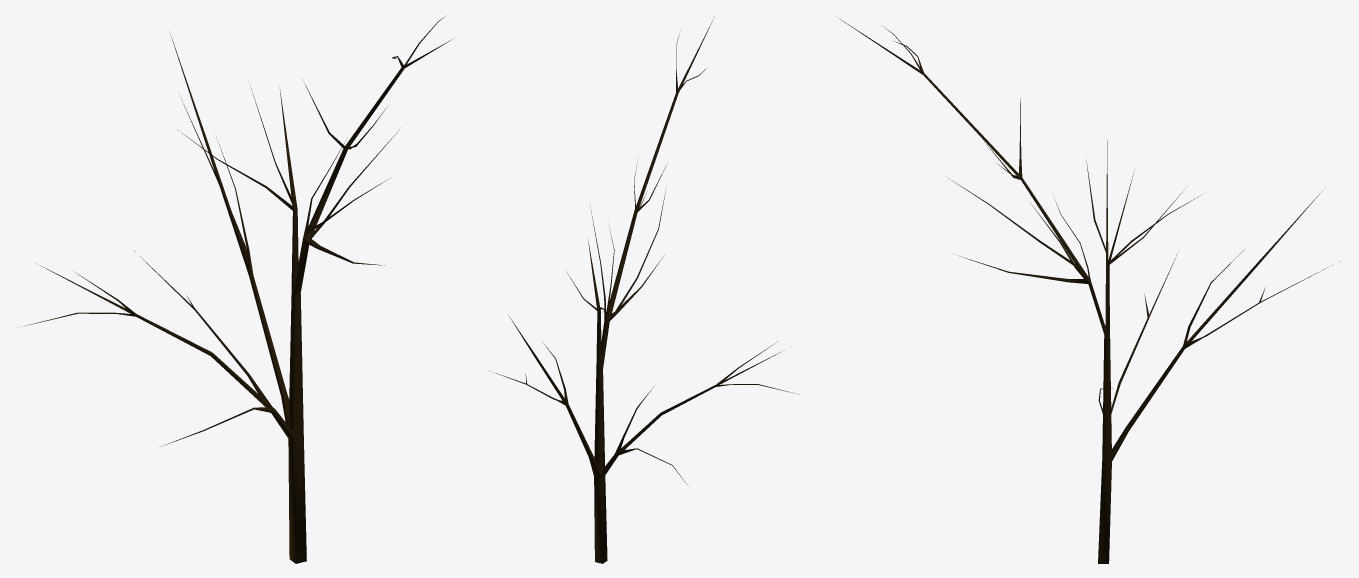
File: bushThreeDraco.glb
3 views of the same model, side by side, from view 1: azimuth 30°, elevation 25°; view 2: azimuth 150°, elevation 25°; view 3: azimuth 270°, elevation 25° (orthographic). The views are drawn at different scales.
Parts seen in each view (by area): view 1: trunk, branch, branch.002, branch.001, branch.003; view 2: branch, trunk, branch.002, branch.001, branch.003; view 3: branch, trunk, branch.001, branch.002, branch.003.
Boxes of the visible parts, left/top/right/bottom form: trunk: left=288, top=292, right=306, bottom=563; branch: left=293, top=15, right=452, bottom=293; branch.002: left=21, top=250, right=293, bottom=446; branch.001: left=170, top=33, right=289, bottom=425; branch.003: left=178, top=87, right=298, bottom=292; branch: left=590, top=17, right=714, bottom=369; trunk: left=594, top=369, right=607, bottom=563; branch.002: left=601, top=342, right=799, bottom=483; branch.001: left=493, top=315, right=601, bottom=478; branch.003: left=567, top=239, right=605, bottom=370; branch: left=839, top=18, right=1106, bottom=334; trunk: left=1098, top=334, right=1111, bottom=563; branch.001: left=1112, top=187, right=1333, bottom=460; branch.002: left=1086, top=141, right=1177, bottom=413; branch.003: left=1107, top=171, right=1204, bottom=334.
Bounding box in the file's own units: 0.6044 × 1.08 × 0.9126.
